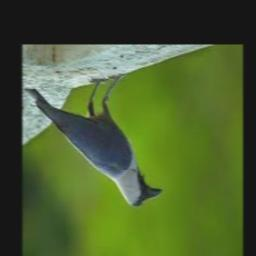Crow: (26, 76, 163, 206)
